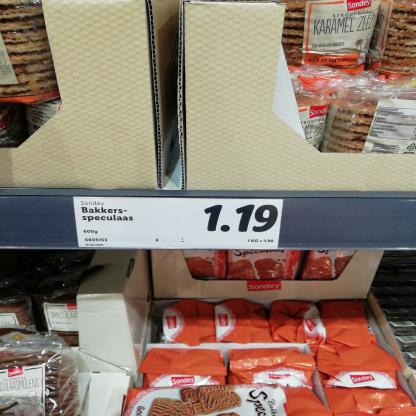prtg: (74, 197, 284, 251)
